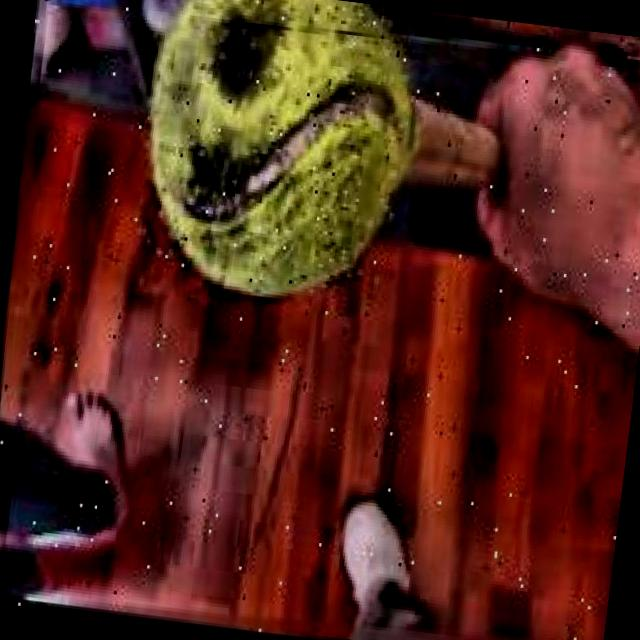Tennis Ball: (113, 0, 426, 321)
